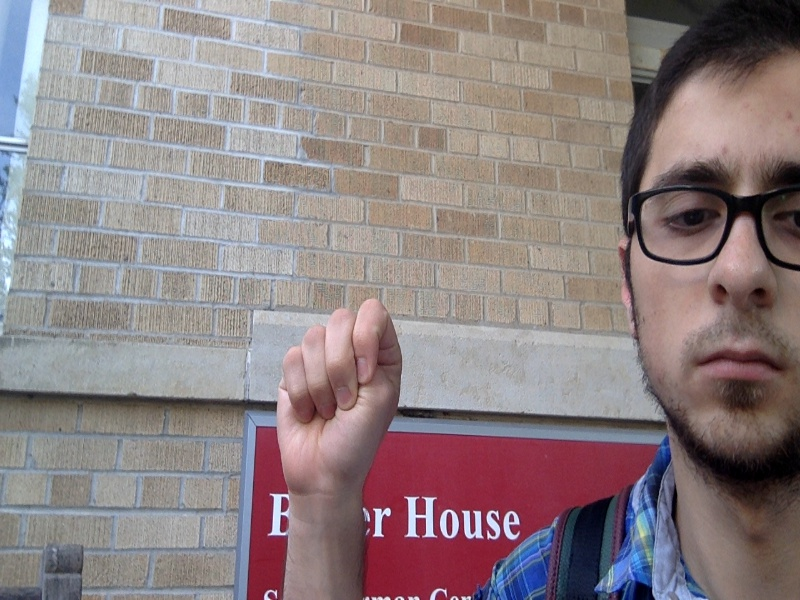0-hand: (271, 302, 403, 488)
